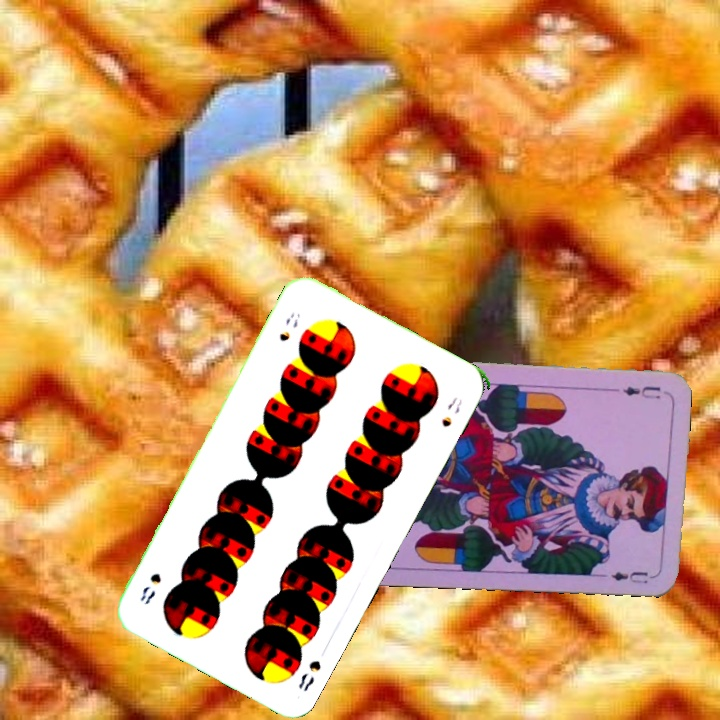EU: (619, 382, 663, 402)
S8: (294, 656, 324, 694), (275, 308, 304, 344)
